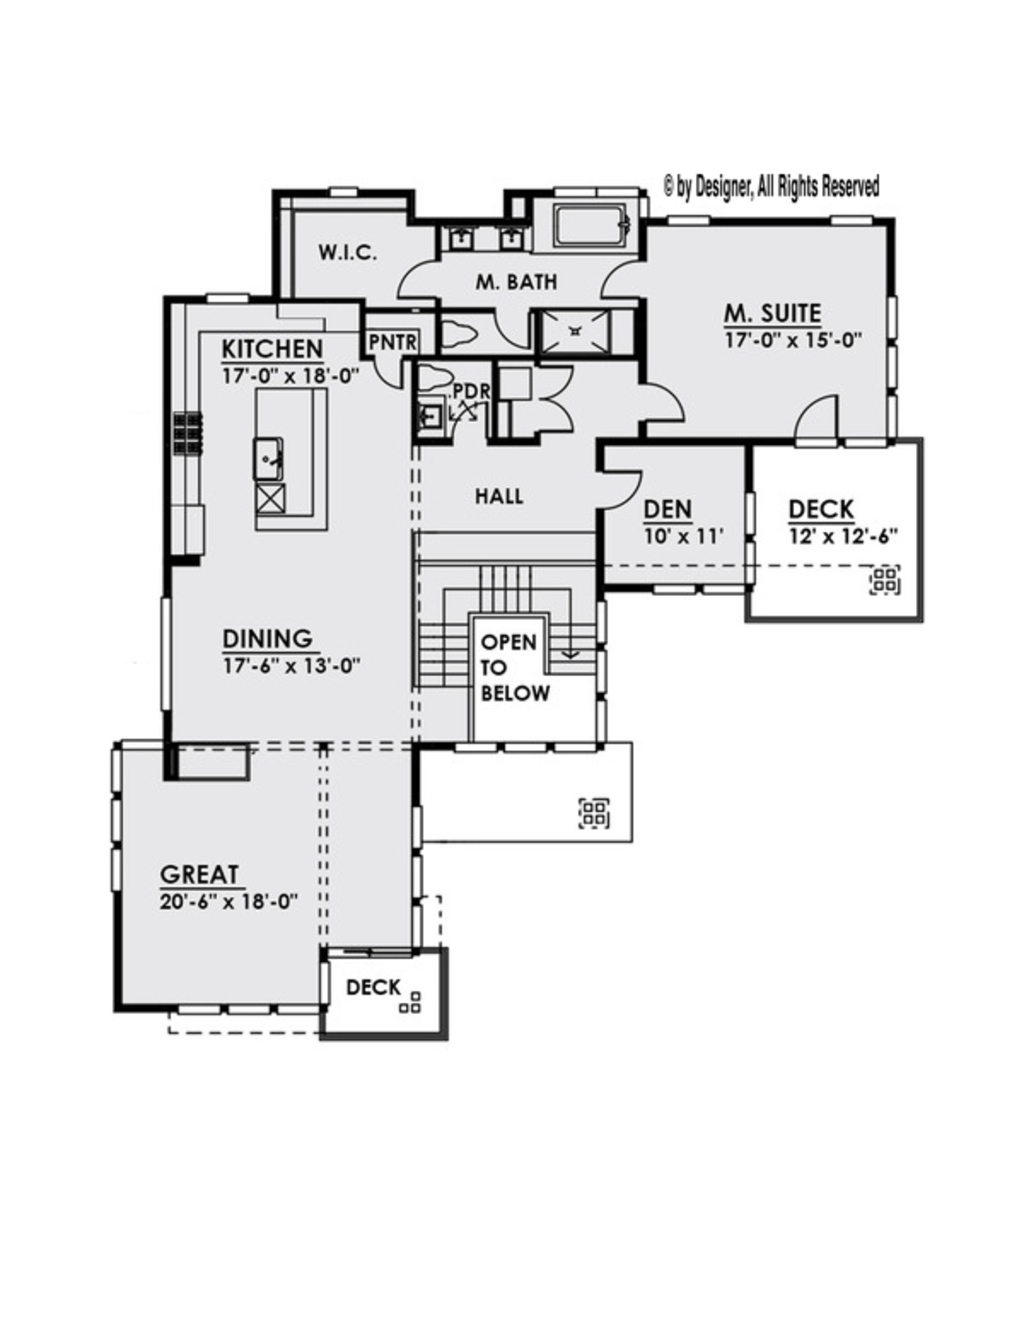door: (635, 374, 694, 432), (790, 388, 848, 446), (538, 357, 576, 440), (593, 255, 646, 302), (594, 464, 645, 512), (393, 257, 439, 301), (369, 355, 412, 390)
large_sink: (438, 311, 480, 352), (410, 362, 463, 393)
stairs: (417, 533, 598, 686)
tub: (551, 195, 635, 249)
windows: (401, 800, 437, 950), (103, 743, 132, 902), (168, 997, 320, 1022), (649, 576, 744, 602)
